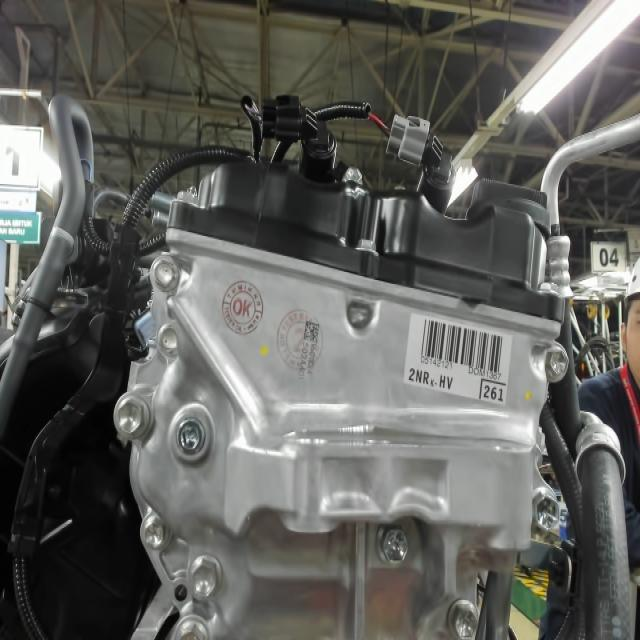Engine Assy-261: (477, 375, 508, 406)
Hose Canister-MR: (48, 223, 78, 255)
